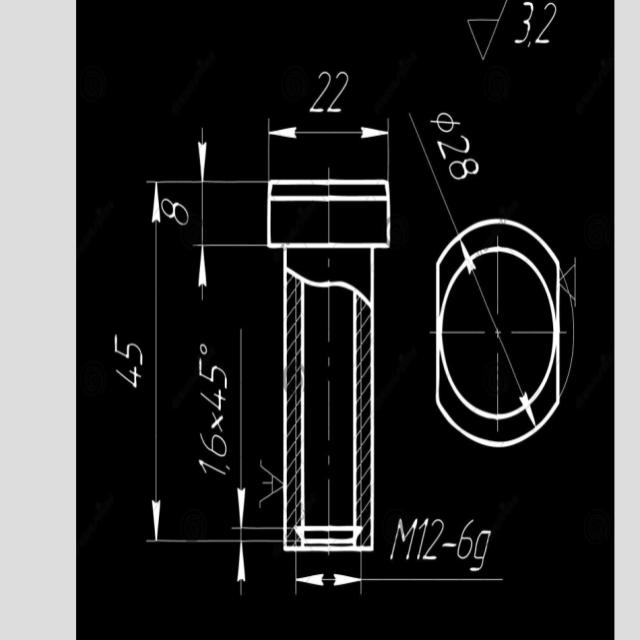marking_line: (145, 178, 266, 599), (191, 123, 267, 303), (232, 327, 281, 531), (263, 115, 394, 180), (191, 239, 268, 302), (197, 130, 266, 190), (294, 553, 364, 596), (235, 538, 283, 600)
numeric: (109, 332, 145, 368), (534, 3, 559, 48), (328, 69, 352, 115), (308, 68, 329, 115), (160, 195, 190, 227), (199, 356, 228, 389), (423, 517, 445, 560), (512, 0, 533, 44), (449, 157, 482, 184), (198, 431, 228, 459), (113, 365, 141, 391), (457, 520, 475, 559), (415, 518, 430, 560), (201, 386, 227, 410), (197, 457, 225, 476)
special_symbol: (466, 12, 501, 61), (256, 458, 283, 510), (429, 106, 462, 136), (199, 341, 209, 355)
